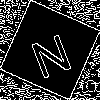N: (25, 25, 75, 80)
